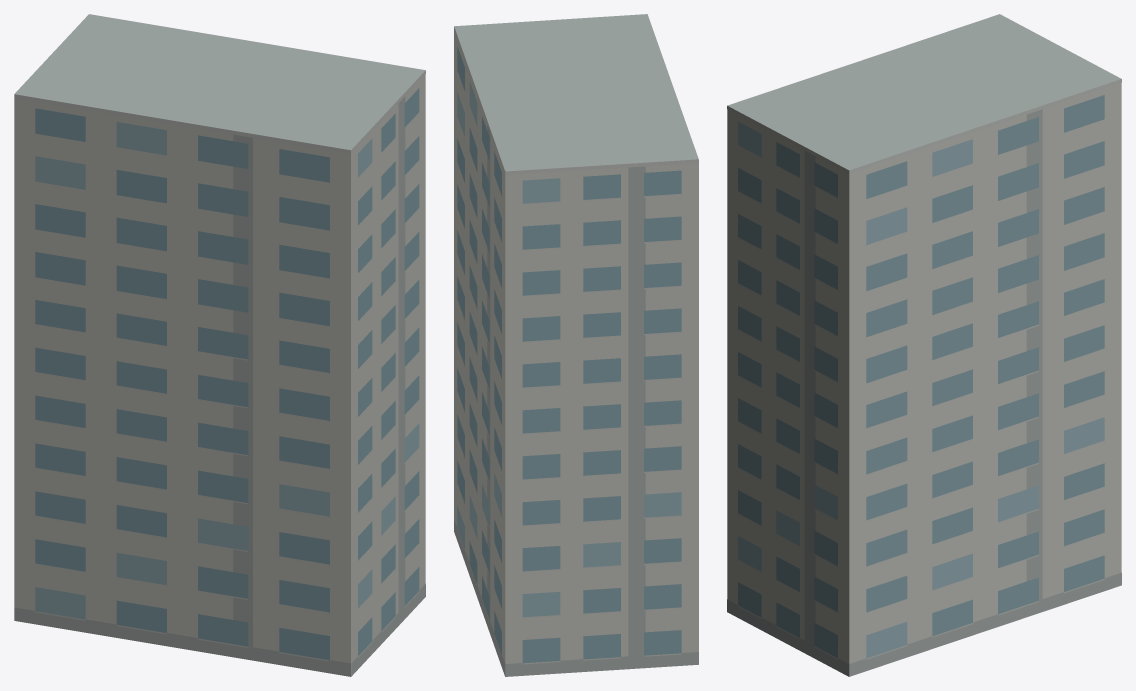
The model's file is residential-b4bf9655-8a5d-439b-89d4-ff22832052e9.glb.
3 views of the same model, side by side, from view 1: azimuth 30°, elevation 25°; view 2: azimuth 150°, elevation 25°; view 3: azimuth 270°, elevation 25° (orthographic). The views are drawn at different scales.
Visible parts, largest first — view 1: residential-b4bf9655-8a5d-439b-89d4-ff22832052e9.tmp; view 2: residential-b4bf9655-8a5d-439b-89d4-ff22832052e9.tmp; view 3: residential-b4bf9655-8a5d-439b-89d4-ff22832052e9.tmp.
Part boxes in pixels (x1=…): residential-b4bf9655-8a5d-439b-89d4-ff22832052e9.tmp: x1=14, y1=14, x2=425, y2=676; residential-b4bf9655-8a5d-439b-89d4-ff22832052e9.tmp: x1=454, y1=14, x2=698, y2=676; residential-b4bf9655-8a5d-439b-89d4-ff22832052e9.tmp: x1=727, y1=14, x2=1121, y2=676.
Size of the model in its own units: 21.86 by 33 by 23.31.
